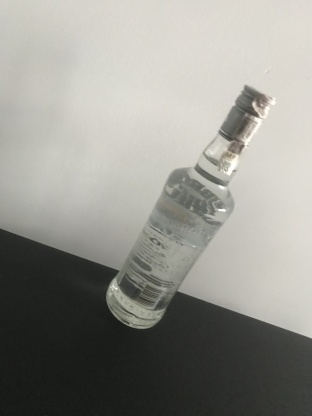nakretka: (216, 81, 277, 150)
